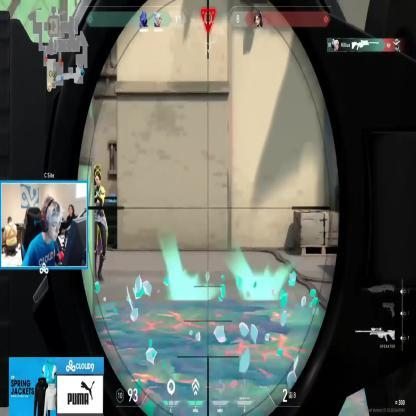enemy: (86, 166, 108, 282)
enemy_head: (94, 167, 102, 188)
